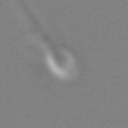normal: (16, 1, 51, 50)
